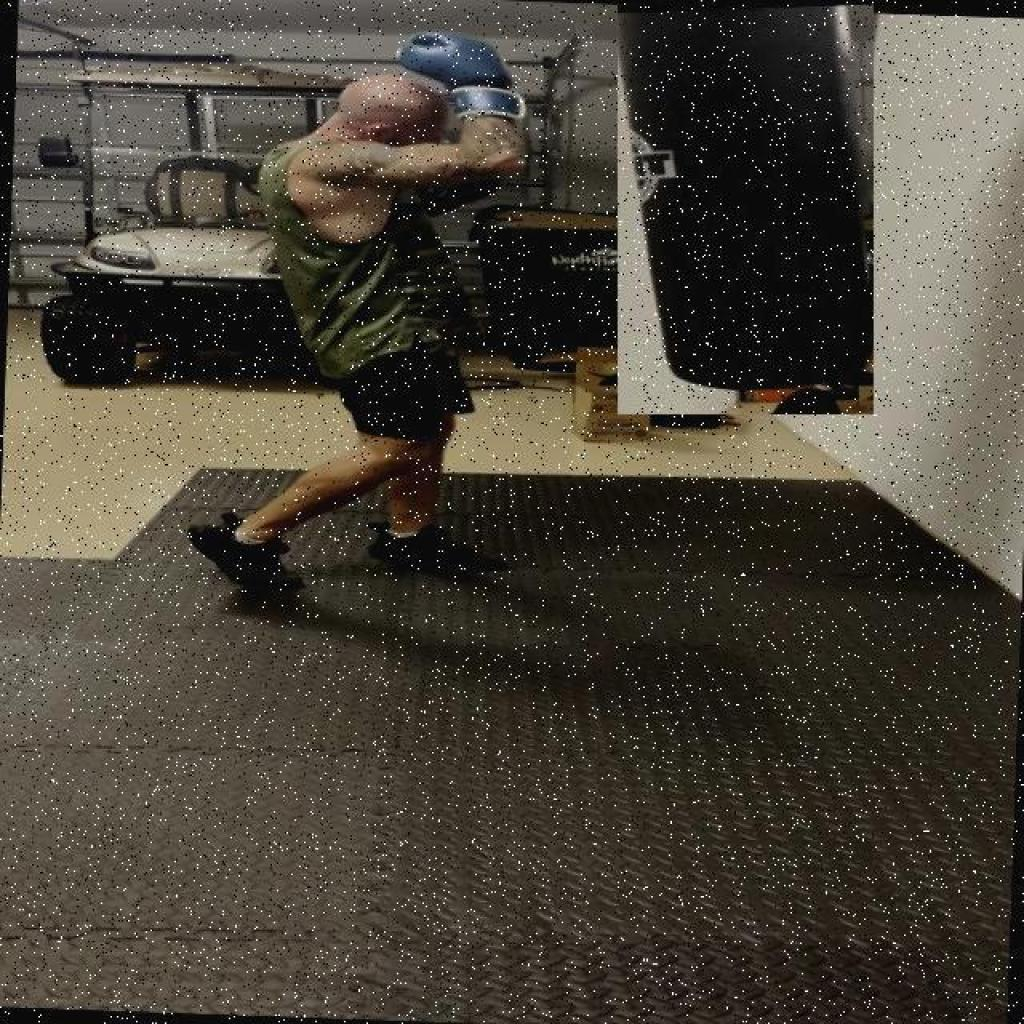bag: (618, 5, 872, 414)
uppercut: (242, 0, 552, 218)
